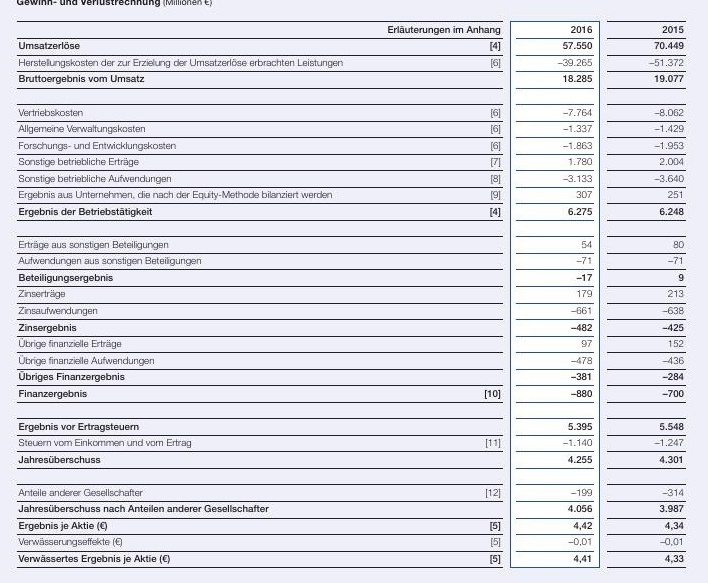table: (0, 0, 708, 583)
